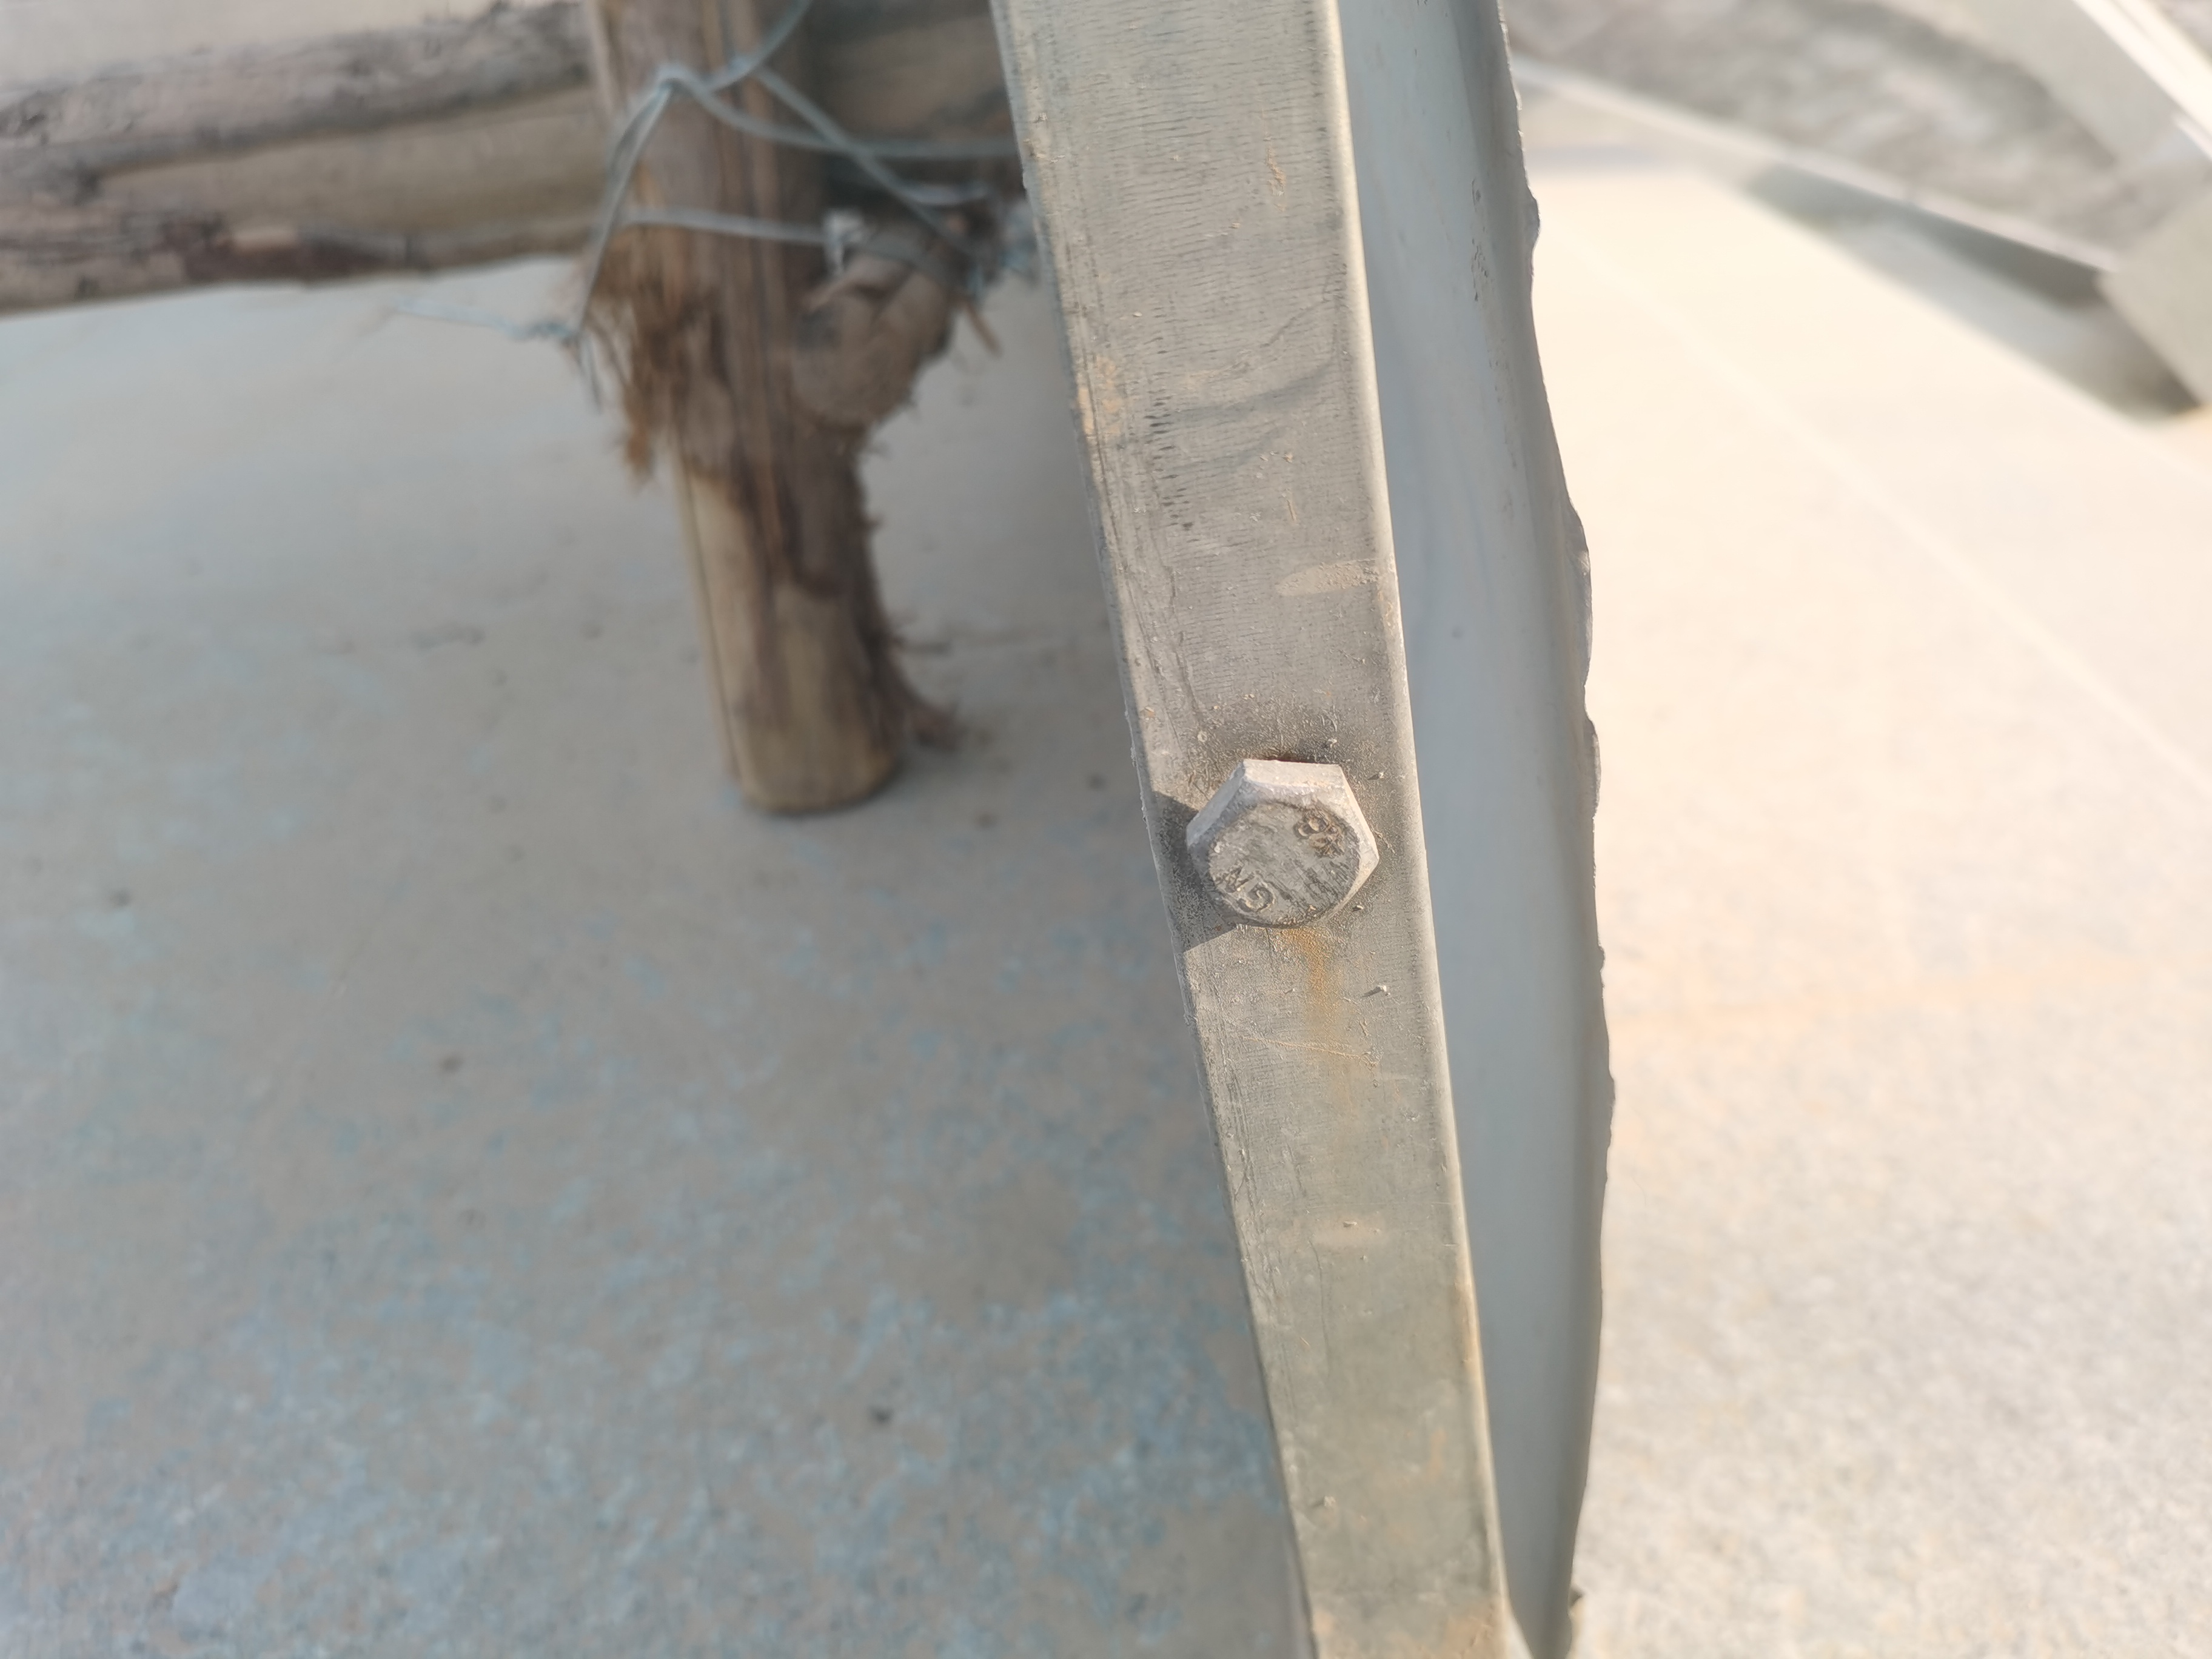bolt_a: (1179, 749, 1385, 936)
